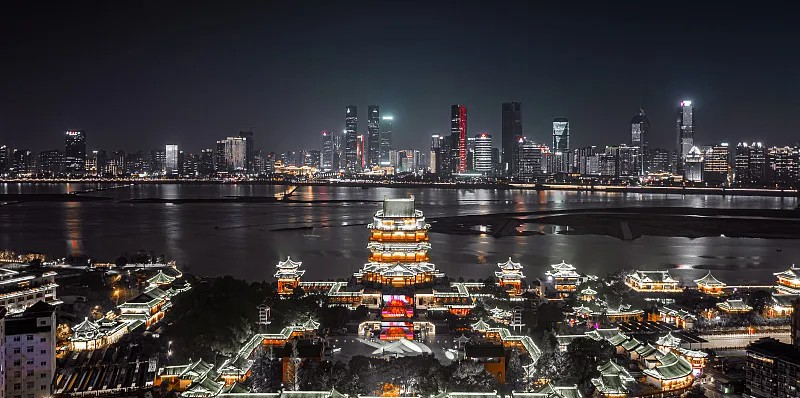Teng: (352, 196, 448, 293)
